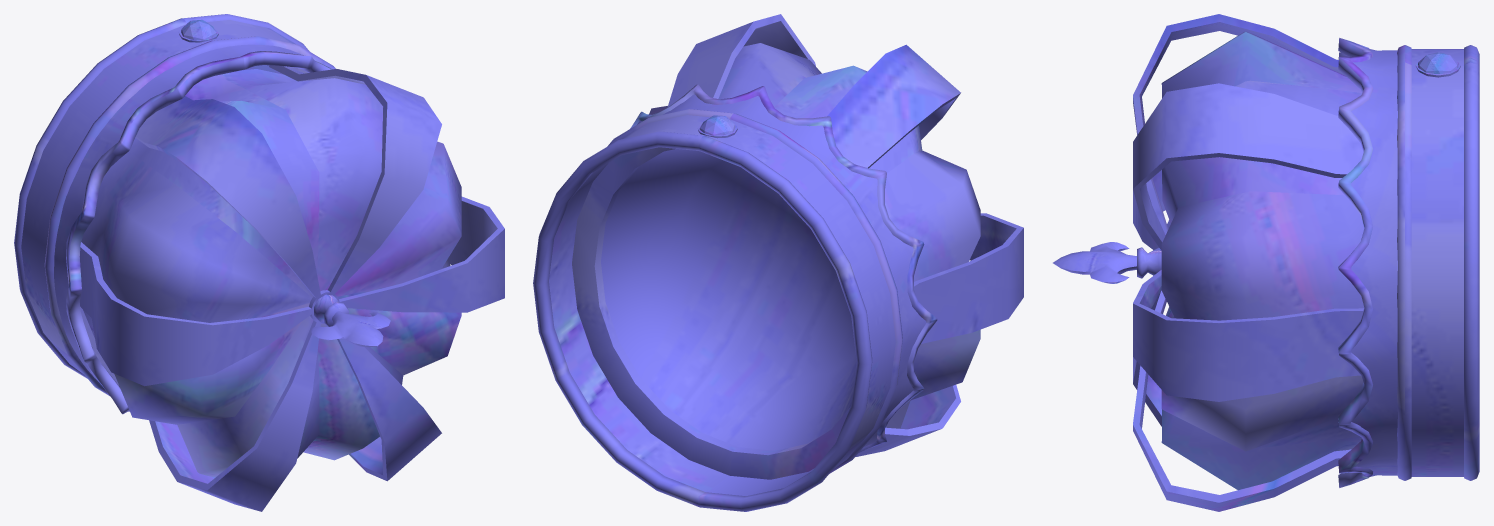
Rendered from Headwear44.glb.
The picture shows the model from 3 angles, left to right: view 1: azimuth 30°, elevation 25°; view 2: azimuth 150°, elevation 25°; view 3: azimuth 270°, elevation 25°; orthographic projection. The views are drawn at different scales.
Parts seen in each view (by area): view 1: Headwear44; view 2: Headwear44; view 3: Headwear44.
Part boxes in pixels (x1,y1,x2,y2): Headwear44: (14,14,504,511); Headwear44: (533,14,1023,511); Headwear44: (1053,14,1479,511).
Bounding box in the file's own units: 2.21 × 2.21 × 2.
Materials: 1 (1 with a texture image).
